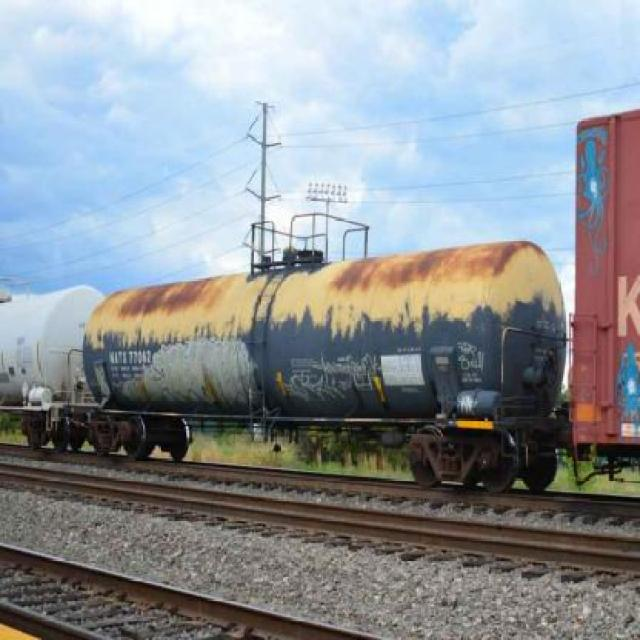corrosion: (82, 236, 568, 429)
